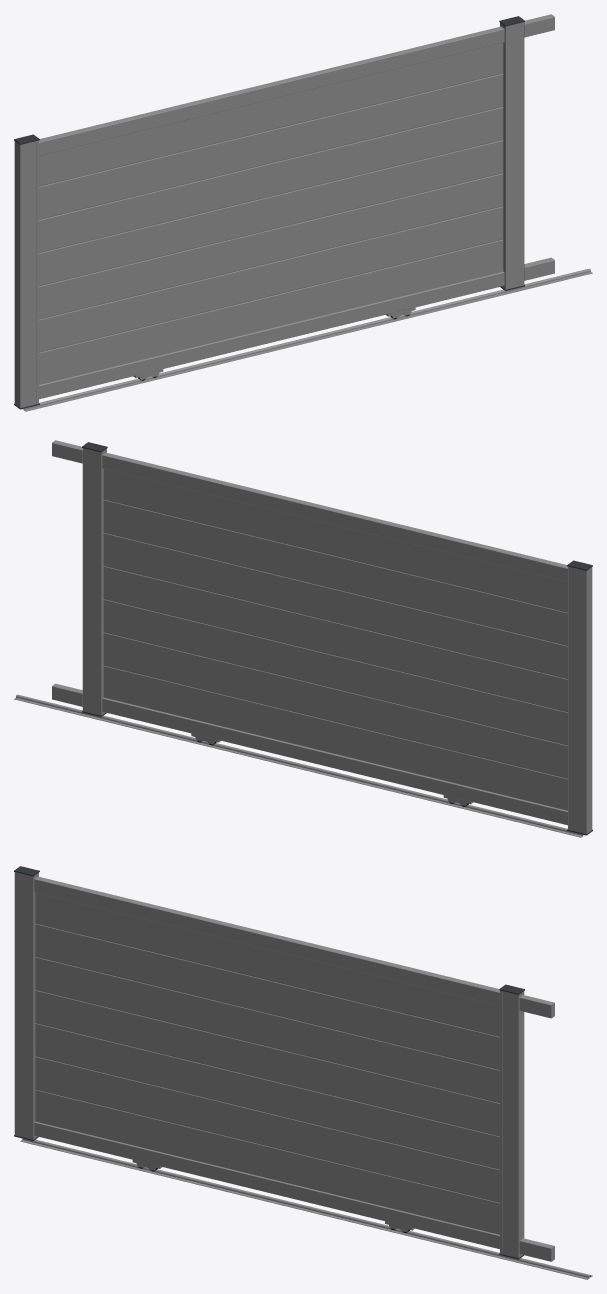
3 views of the same model, one above another, from view 1: azimuth 30°, elevation 25°; view 2: azimuth 150°, elevation 25°; view 3: azimuth 330°, elevation 25° (orthographic).
Parts seen in each view (by area): view 1: Shape178, Shape174, Shape176, Shape175, Shape177, Shape173, Shape179, Shape096, Shape095, Shape107412643, Shape107413021, Rail; view 2: Shape176, Shape175, Shape177, Shape174, Shape178, Shape173, Shape179, Shape096, Shape095, Shape107412643, Shape107413021, Rail; view 3: Shape175, Shape174, Shape176, Shape177, Shape178, Shape173, Shape179, Shape096, Shape095, Shape107413021, Shape107412643, Rail.
Part boxes in pixels (x1=…): Shape178: x1=39, y1=73, x2=503, y2=219; Shape174: x1=39, y1=206, x2=503, y2=352; Shape176: x1=39, y1=139, x2=503, y2=285; Shape175: x1=39, y1=173, x2=503, y2=318; Shape177: x1=39, y1=106, x2=503, y2=252; Shape173: x1=39, y1=239, x2=503, y2=384; Shape179: x1=39, y1=43, x2=503, y2=186; Shape096: x1=39, y1=14, x2=554, y2=155; Shape095: x1=39, y1=257, x2=554, y2=399; Shape107412643: x1=14, y1=140, x2=38, y2=407; Shape107413021: x1=500, y1=22, x2=524, y2=289; Rail: x1=22, y1=268, x2=592, y2=411; Shape176: x1=103, y1=565, x2=567, y2=711; Shape175: x1=103, y1=598, x2=567, y2=744; Shape177: x1=103, y1=532, x2=567, y2=678; Shape174: x1=103, y1=632, x2=567, y2=777; Shape178: x1=103, y1=499, x2=567, y2=645; Shape173: x1=103, y1=665, x2=567, y2=810; Shape179: x1=103, y1=469, x2=567, y2=611; Shape096: x1=52, y1=440, x2=567, y2=581; Shape095: x1=52, y1=683, x2=567, y2=825; Shape107412643: x1=568, y1=566, x2=592, y2=833; Shape107413021: x1=82, y1=448, x2=106, y2=715; Rail: x1=14, y1=694, x2=584, y2=837; Shape175: x1=35, y1=1022, x2=499, y2=1168; Shape174: x1=35, y1=1056, x2=499, y2=1202; Shape176: x1=35, y1=989, x2=499, y2=1135; Shape177: x1=35, y1=956, x2=499, y2=1102; Shape178: x1=35, y1=923, x2=499, y2=1069; Shape173: x1=35, y1=1089, x2=499, y2=1234; Shape179: x1=35, y1=892, x2=499, y2=1036; Shape096: x1=34, y1=876, x2=554, y2=1018; Shape095: x1=34, y1=1121, x2=554, y2=1261; Shape107413021: x1=500, y1=990, x2=524, y2=1257; Shape107412643: x1=14, y1=872, x2=38, y2=1139; Rail: x1=20, y1=1138, x2=592, y2=1279.
Size of the model in its own units: 3638 by 1636 by 70.
Materials: 6 (2 with a texture image).
